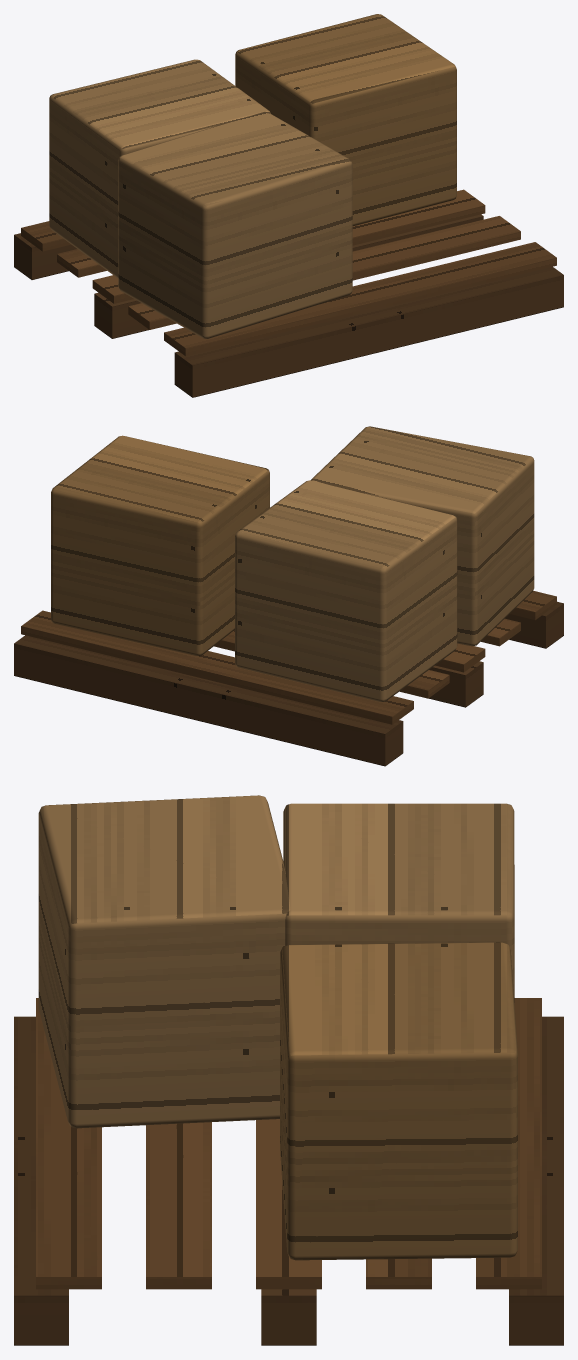
File: pallet_com_caixas.glb
3 renders of one model, top to bottom at view 1: azimuth 30°, elevation 25°; view 2: azimuth 150°, elevation 25°; view 3: azimuth 270°, elevation 25°, orthographic. The views are drawn at different scales.
Parts seen in each view (by area): view 1: pallet_com_caixas_madeira; view 2: pallet_com_caixas_madeira; view 3: pallet_com_caixas_madeira.
Boxes of the visible parts, x1,y1,x2,y2 form: pallet_com_caixas_madeira: (14, 14, 563, 397); pallet_com_caixas_madeira: (14, 426, 563, 766); pallet_com_caixas_madeira: (14, 795, 563, 1345).
Size of the model in its own units: 1.2 by 0.56 by 1.
1 material, 1 textured.
